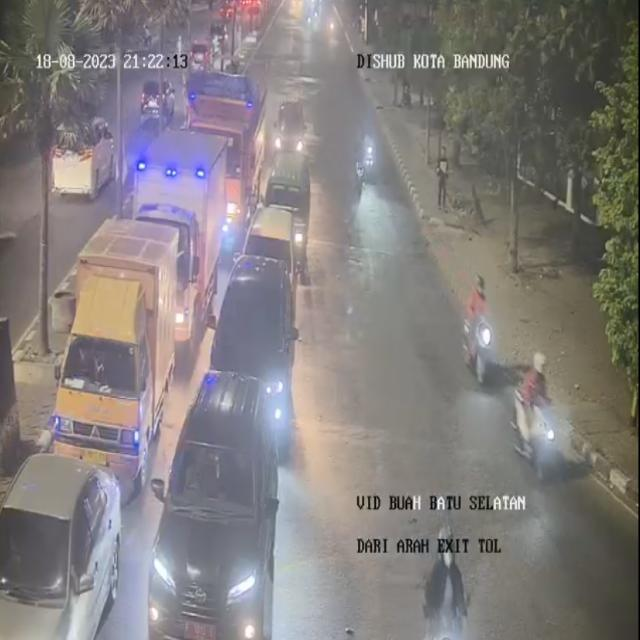cars: (152, 366, 282, 636), (50, 220, 171, 497), (0, 452, 124, 640), (124, 122, 220, 357), (208, 209, 302, 444), (259, 153, 312, 260), (273, 98, 307, 162)
motorcycle: (421, 516, 478, 640), (507, 347, 560, 478), (460, 273, 499, 392), (350, 129, 369, 201)
truck: (191, 66, 267, 242)
